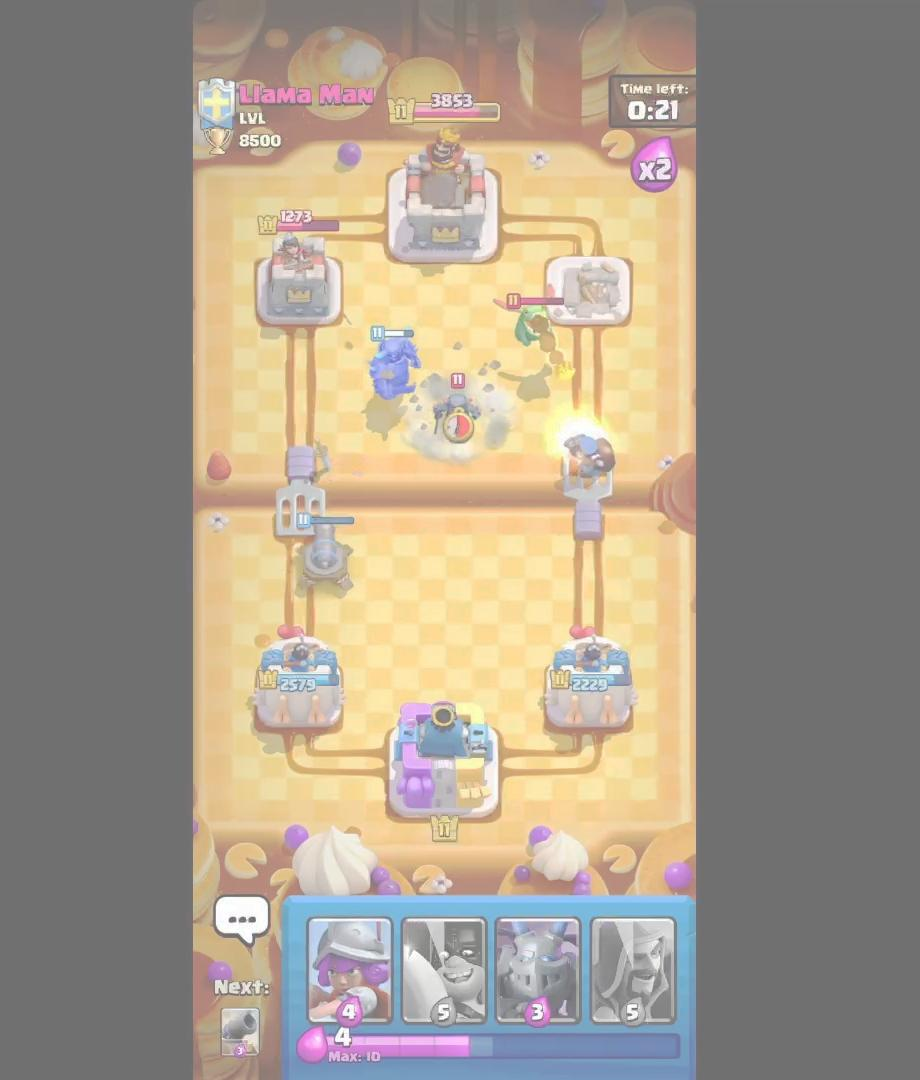Baby Dragon: (493, 288, 568, 358)
Mini Pekka: (428, 377, 482, 444)
